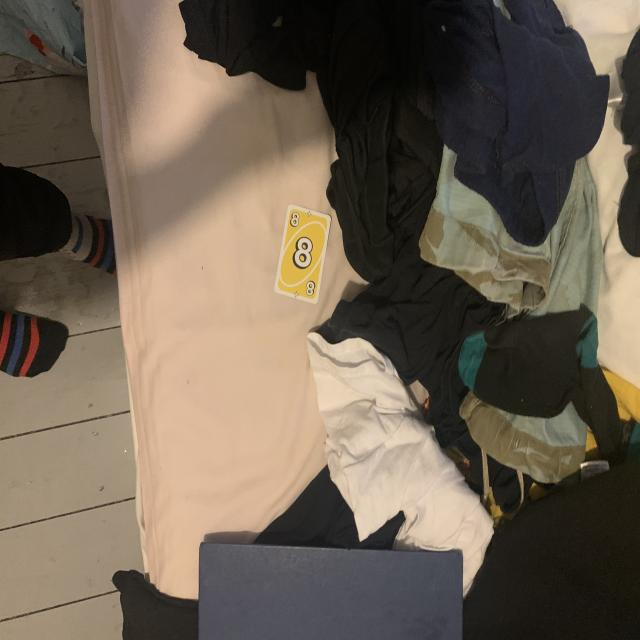lyellow-8: (289, 209, 301, 228)
